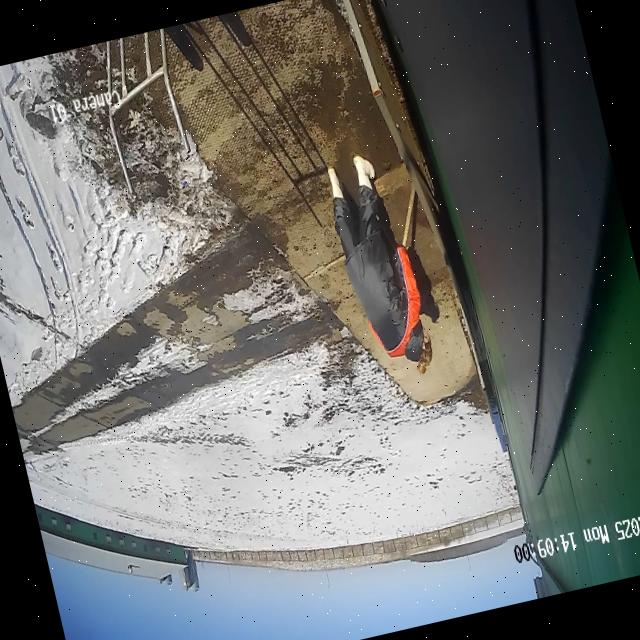Red uniform: (317, 144, 440, 386)
